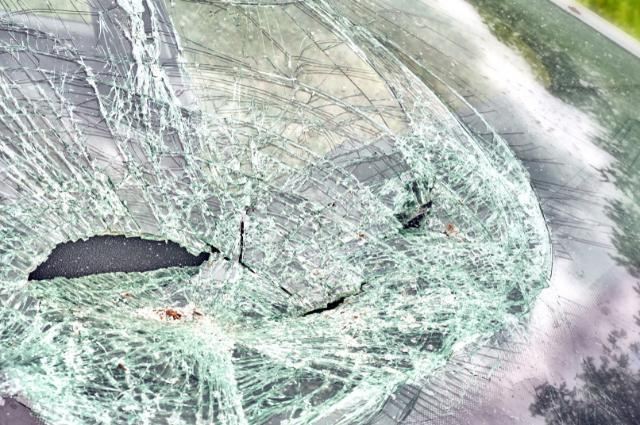Windshield: (3, 3, 565, 425)
